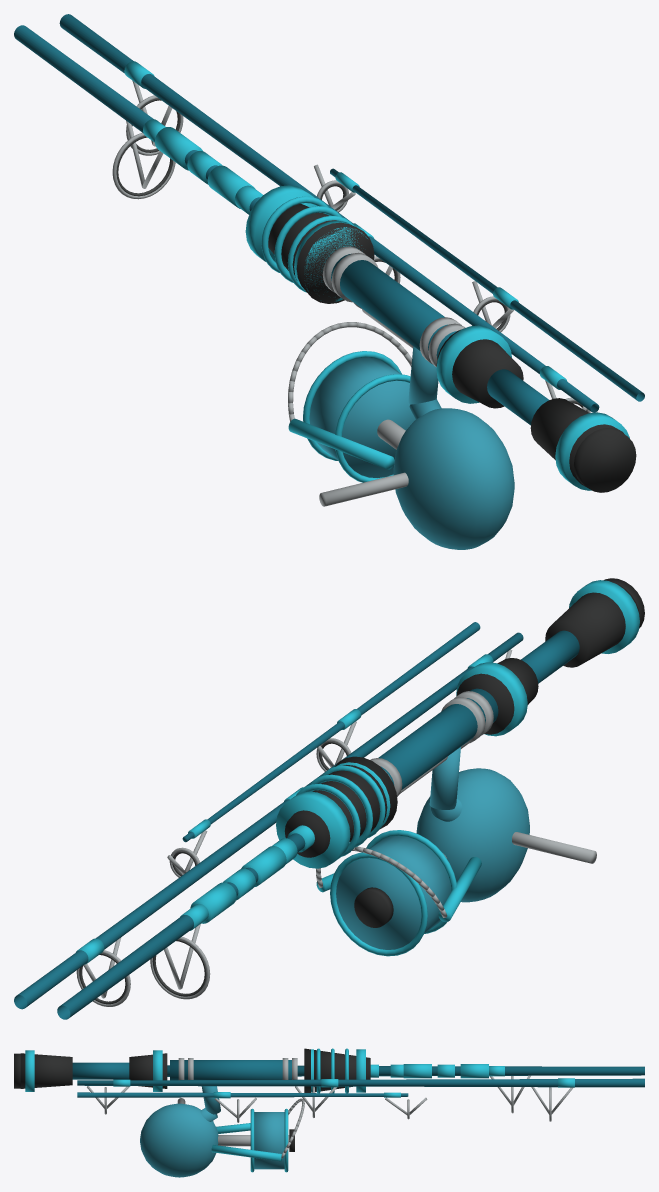
Rendered from kingfisher_feeder_folded.glb.
3 views of the same model, one above another, from view 1: azimuth 30°, elevation 25°; view 2: azimuth 150°, elevation 25°; view 3: azimuth 270°, elevation 25° (orthographic). The views are drawn at different scales.
Parts seen in each view (by area): view 1: Folded rod; view 2: Folded rod; view 3: Folded rod.
Boxes of the visible parts, box(x1,y1,x2,y2) form: Folded rod: box(14, 14, 644, 549); Folded rod: box(14, 578, 644, 1019); Folded rod: box(14, 1048, 644, 1177).
Size of the model in its own units: 0.1577 by 0.1456 by 0.667.
